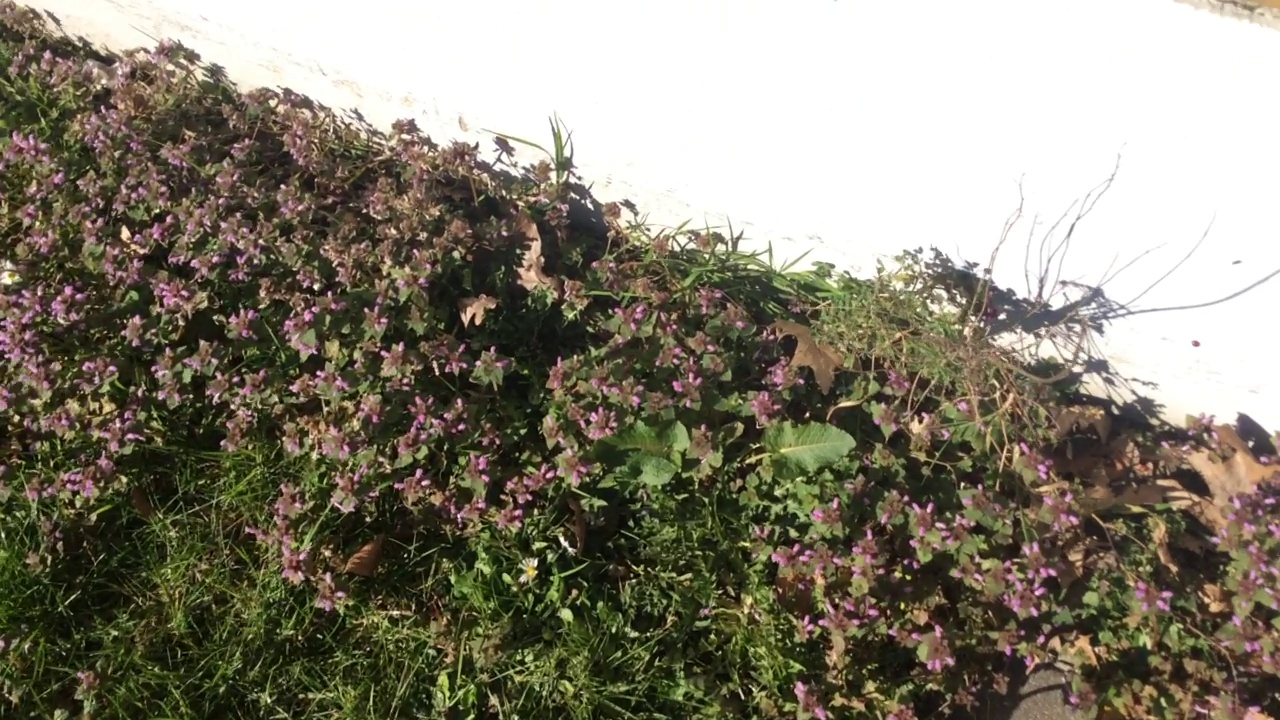rumex: (585, 418, 858, 486)
